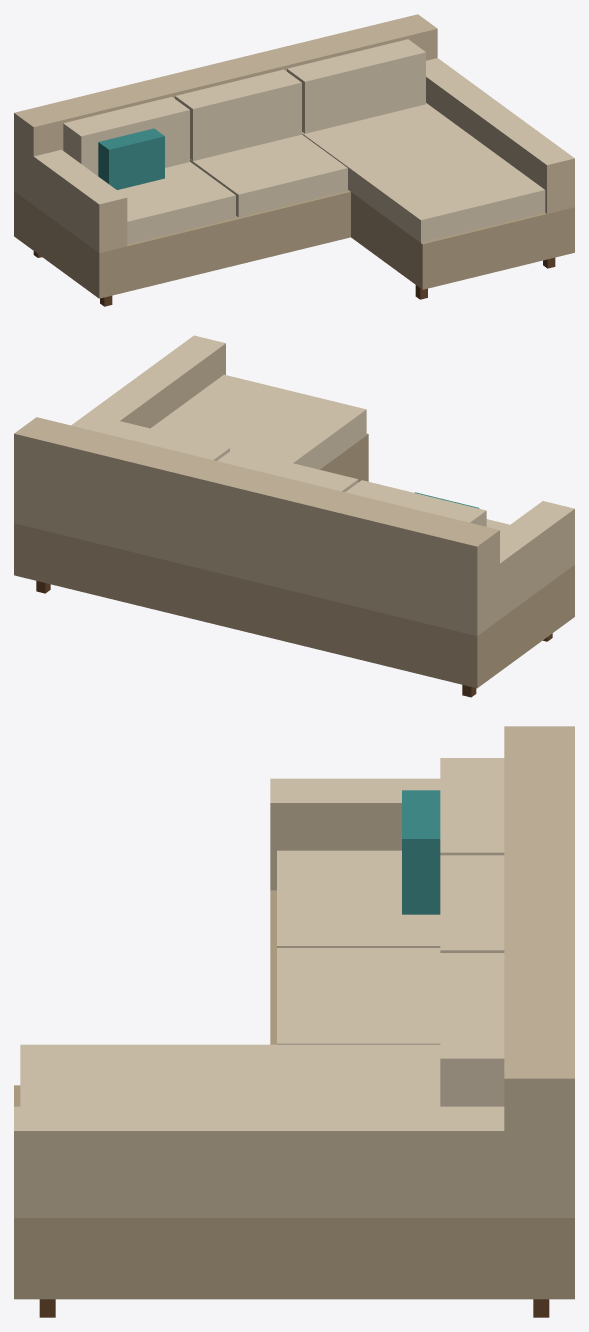
File: l_sofa.glb
3 views of the same model, one above another, from view 1: azimuth 30°, elevation 25°; view 2: azimuth 150°, elevation 25°; view 3: azimuth 270°, elevation 25° (orthographic). The views are drawn at different scales.
Parts seen in each view (by area): view 1: l_sofa; view 2: l_sofa; view 3: l_sofa.
Part boxes in pixels (box(x1,y1,x2,y2)): l_sofa: box(14, 14, 574, 306); l_sofa: box(14, 335, 574, 697); l_sofa: box(14, 726, 574, 1317).
Size of the model in its own units: 2.6 by 0.86 by 1.75.
